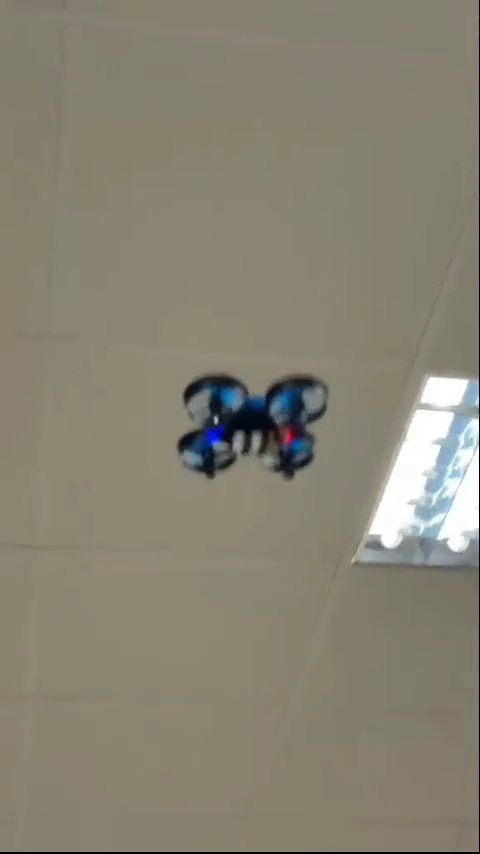drone: (182, 367, 330, 485)
